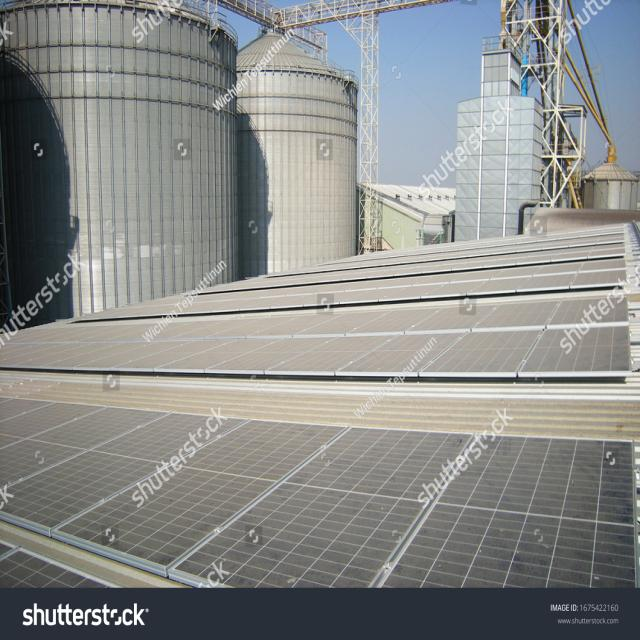dust-solar-panel: (0, 394, 640, 606), (0, 292, 627, 379), (68, 227, 627, 322), (0, 531, 142, 592)
